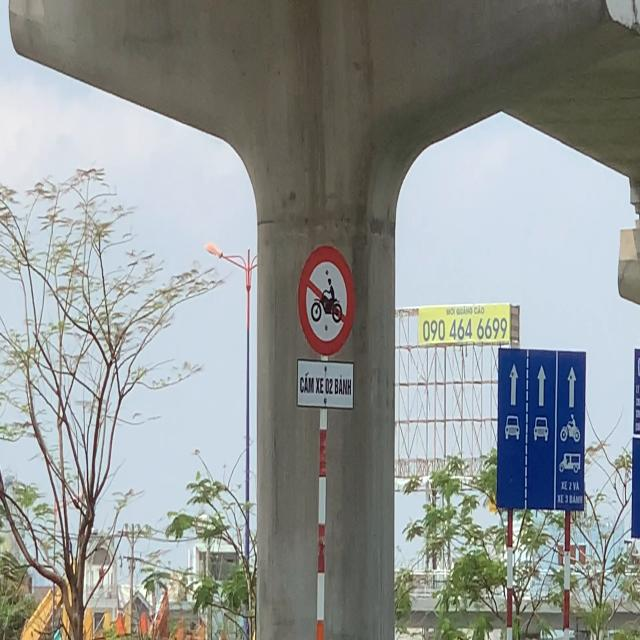Cam con lai: (297, 240, 356, 360)
